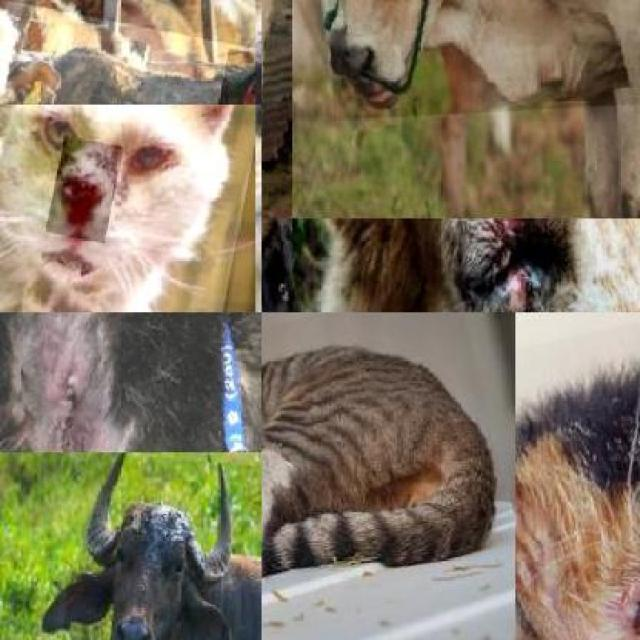buffalo: (34, 452, 261, 640)
cat: (262, 312, 516, 640), (0, 104, 255, 312), (515, 312, 640, 640)
cow: (315, 0, 639, 118), (0, 0, 255, 104)
dog: (0, 312, 262, 452), (292, 218, 640, 312)
injured: (396, 218, 598, 312), (0, 325, 114, 452), (46, 135, 122, 242), (210, 48, 256, 104)
